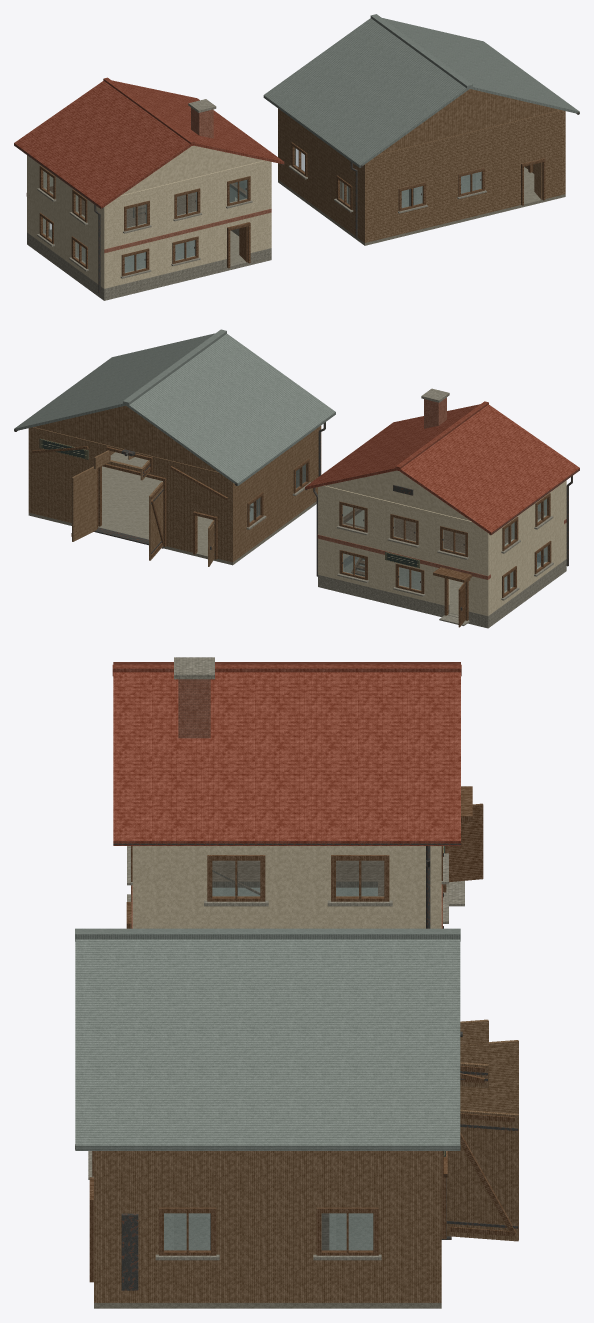
Rendered from PROJECT_Z_Alderbrook_Farmhouse_Barn_Kit.glb.
3 views of the same model, one above another, from view 1: azimuth 30°, elevation 25°; view 2: azimuth 150°, elevation 25°; view 3: azimuth 270°, elevation 25° (orthographic). The views are drawn at different scales.
Visible parts, largest first — view 1: Barn_RoofCorrugated_Left, Barn_RearWeatherboard_WithDoorOpening, Farmhouse_Roof_SlopeLeft, Farmhouse_Rear_WhitewashedMasonry, Barn_RoofCorrugated_Right, Barn_LeftWeatherboard_WithRealWindows, Farmhouse_Left_WhitewashedMasonry, Barn_GableRearBoarding, Farmhouse_Roof_SlopeRight, Farmhouse_RearTriangularGable, Barn_GroundHardstand_12x9, Farmhouse_Rear_LowerPlinth (+9 smaller); view 2: Barn_RoofCorrugated_Left, Farmhouse_Roof_SlopeLeft, Farmhouse_Front_WhitewashedMasonry, Barn_FrontWeatherboard_WithThreeRealOpenings, Barn_RoofCorrugated_Right, Barn_LeftWeatherboard_WithRealWindows, Farmhouse_Left_WhitewashedMasonry, Barn_GroundHardstand_12x9, Barn_GableFrontBoarding, Farmhouse_Roof_SlopeRight, Farmhouse_FrontTriangularGable, Barn_RightBarnLeaf_BoardDoor (+15 smaller); view 3: Barn_RoofCorrugated_Right, Farmhouse_Roof_SlopeRight, Barn_RightWeatherboard_WithRealWindows, Farmhouse_Right_WhitewashedMasonry, Barn_RightBarnLeaf_BoardDoor, Barn_GroundHardstand_12x9, Barn_MetalRidgeStrip, Barn_LeftSlidingStyleSwingDoor_BoardDoor, Farmhouse_Roof_RidgeCap, Farmhouse_UpperFloor_WithOpenStairwell, Farmhouse_FrontEntryDoor_Leaf, Farmhouse_ChimneyMasonry (+15 smaller).
Part boxes in pixels (x1=…): Barn_RoofCorrugated_Left: x1=263, y1=18, x2=468, y2=167; Barn_RearWeatherboard_WithDoorOpening: x1=363, y1=110, x2=565, y2=242; Farmhouse_Roof_SlopeLeft: x1=14, y1=80, x2=190, y2=208; Farmhouse_Rear_WhitewashedMasonry: x1=101, y1=160, x2=271, y2=288; Barn_RoofCorrugated_Right: x1=382, y1=18, x2=579, y2=114; Barn_LeftWeatherboard_WithRealWindows: x1=279, y1=110, x2=363, y2=241; Farmhouse_Left_WhitewashedMasonry: x1=29, y1=157, x2=101, y2=286; Barn_GableRearBoarding: x1=379, y1=89, x2=559, y2=154; Farmhouse_Roof_SlopeRight: x1=112, y1=80, x2=284, y2=164; Farmhouse_RearTriangularGable: x1=121, y1=145, x2=264, y2=195; Barn_GroundHardstand_12x9: x1=278, y1=167, x2=565, y2=245; Farmhouse_Rear_LowerPlinth: x1=101, y1=248, x2=271, y2=297; Barn_RoofCorrugated_Left: x1=127, y1=334, x2=335, y2=485; Farmhouse_Roof_SlopeLeft: x1=400, y1=404, x2=579, y2=534; Farmhouse_Front_WhitewashedMasonry: x1=318, y1=485, x2=490, y2=615; Barn_FrontWeatherboard_WithThreeRealOpenings: x1=28, y1=427, x2=234, y2=562; Barn_RoofCorrugated_Right: x1=14, y1=333, x2=214, y2=431; Barn_LeftWeatherboard_WithRealWindows: x1=234, y1=427, x2=319, y2=560; Farmhouse_Left_WhitewashedMasonry: x1=490, y1=482, x2=564, y2=613; Barn_GroundHardstand_12x9: x1=28, y1=452, x2=316, y2=565; Barn_GableFrontBoarding: x1=34, y1=405, x2=217, y2=471; Farmhouse_Roof_SlopeRight: x1=305, y1=404, x2=480, y2=489; Farmhouse_FrontTriangularGable: x1=325, y1=470, x2=470, y2=520; Barn_RightBarnLeaf_BoardDoor: x1=72, y1=466, x2=96, y2=541; Barn_RoofCorrugated_Right: x1=75, y1=939, x2=460, y2=1150; Farmhouse_Roof_SlopeRight: x1=113, y1=672, x2=460, y2=845; Barn_RightWeatherboard_WithRealWindows: x1=100, y1=1151, x2=434, y2=1302; Farmhouse_Right_WhitewashedMasonry: x1=142, y1=846, x2=431, y2=928; Barn_RightBarnLeaf_BoardDoor: x1=447, y1=1109, x2=518, y2=1241; Barn_GroundHardstand_12x9: x1=94, y1=1213, x2=441, y2=1308; Barn_MetalRidgeStrip: x1=75, y1=928, x2=460, y2=941; Barn_LeftSlidingStyleSwingDoor_BoardDoor: x1=460, y1=1040, x2=518, y2=1113; Farmhouse_Roof_RidgeCap: x1=112, y1=664, x2=461, y2=676; Farmhouse_UpperFloor_WithOpenStairwell: x1=212, y1=860, x2=384, y2=895; Farmhouse_FrontEntryDoor_Leaf: x1=446, y1=803, x2=483, y2=882; Farmhouse_ChimneyMasonry: x1=178, y1=679, x2=210, y2=738.
Bounding box in the file's own units: 28.06 × 8.97 × 11.49.
Materials: 11 (11 with a texture image).
